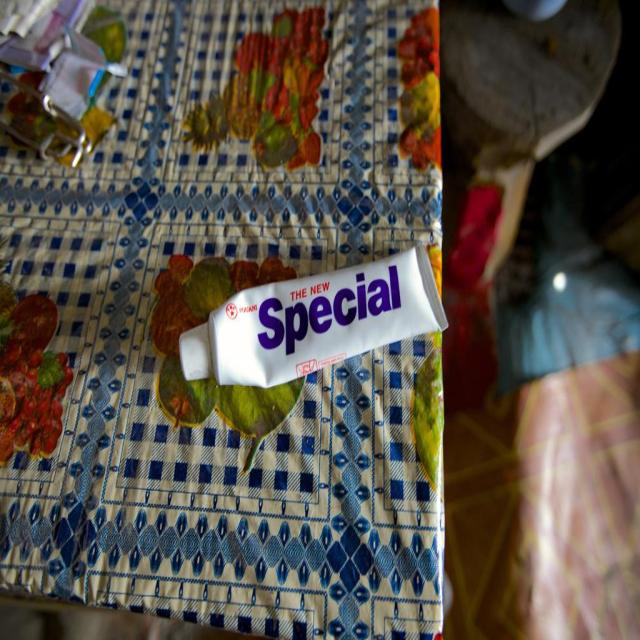Toothpaste: (176, 249, 448, 391)
